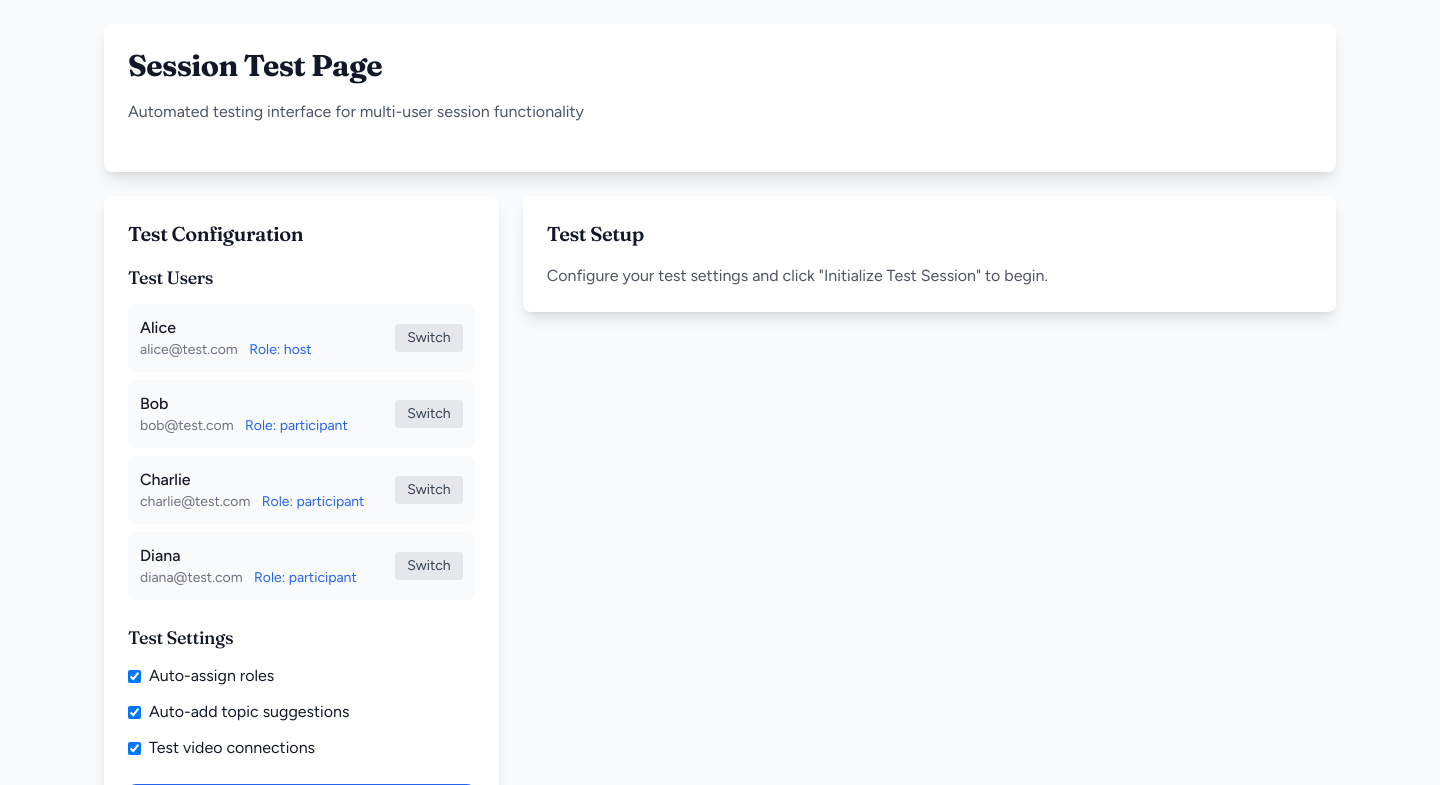
SessionTestPage Component › User Switching › should allow switching between users
Expected: the text "Alice" is shown, left=140, top=318, right=176, bottom=337
Click the button "Switch" next to "host".
click(429, 338)  # box left=395, top=324, right=463, bottom=352
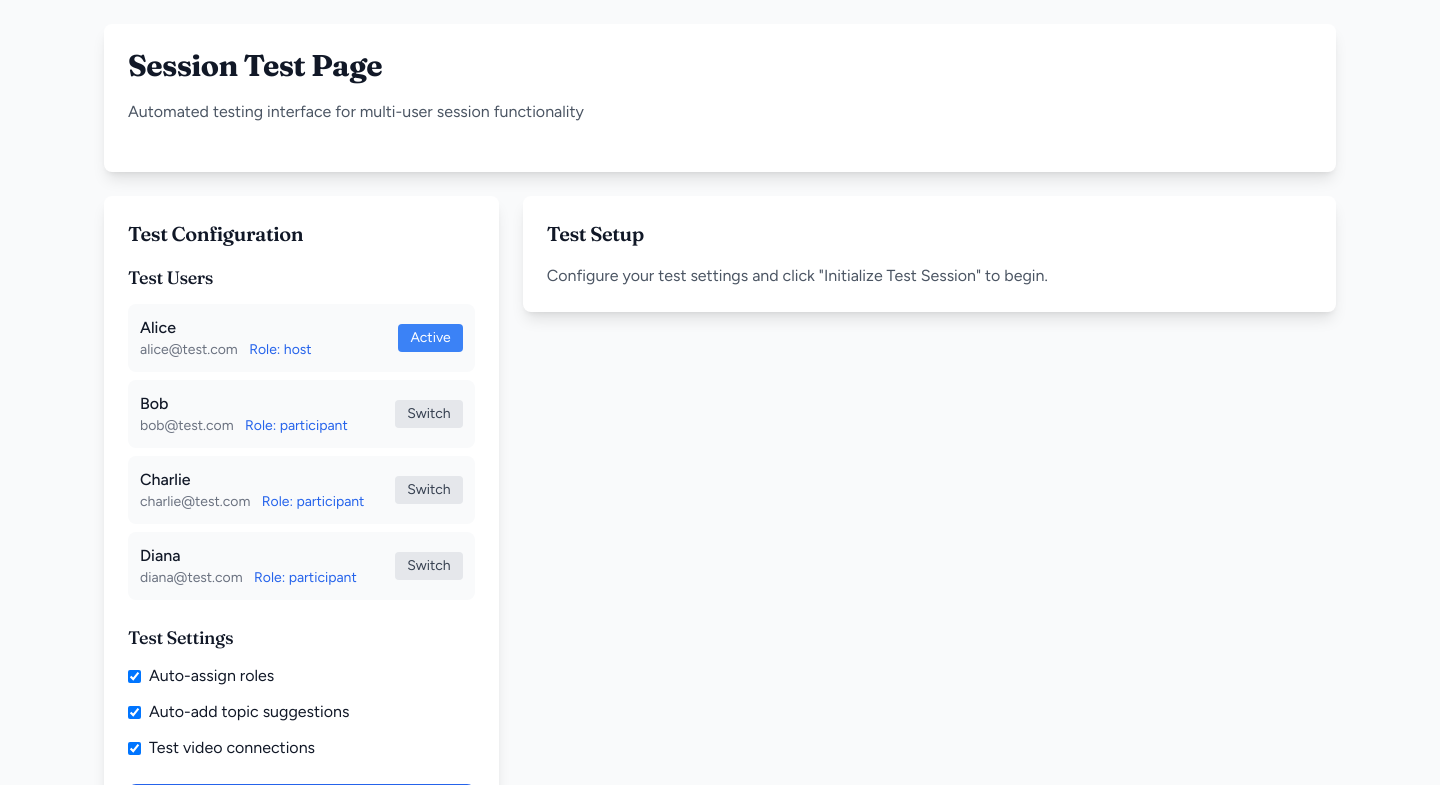
Now the button "Active" is shown, box left=398, top=324, right=463, bottom=352
